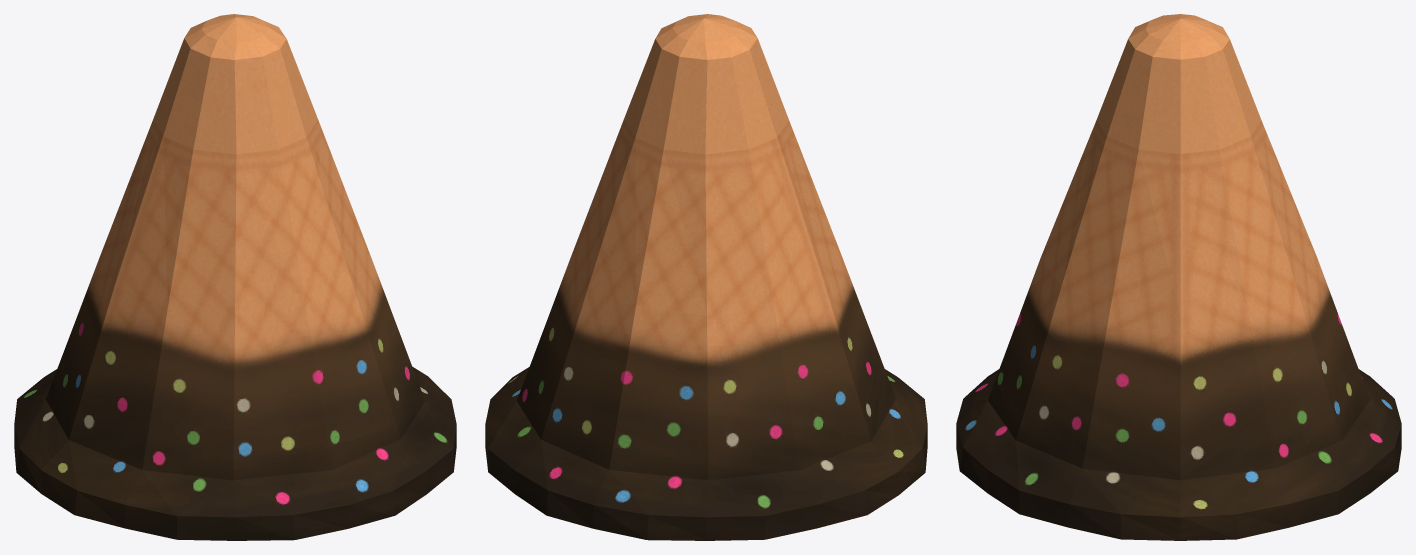
File: ice_cream_cone.fbx
The picture shows the model from 3 angles, left to right: view 1: azimuth 30°, elevation 25°; view 2: azimuth 150°, elevation 25°; view 3: azimuth 270°, elevation 25°; orthographic projection.
Parts seen in each view (by area): view 1: ice_cream_cone; view 2: ice_cream_cone; view 3: ice_cream_cone.
Part boxes in pixels (box(x1,y1,x2,y2)): ice_cream_cone: box(14, 14, 456, 540); ice_cream_cone: box(485, 14, 927, 540); ice_cream_cone: box(956, 14, 1401, 540).
Bounding box in the file's own units: 30.37 × 32.26 × 30.37.
1 material, 1 textured.
